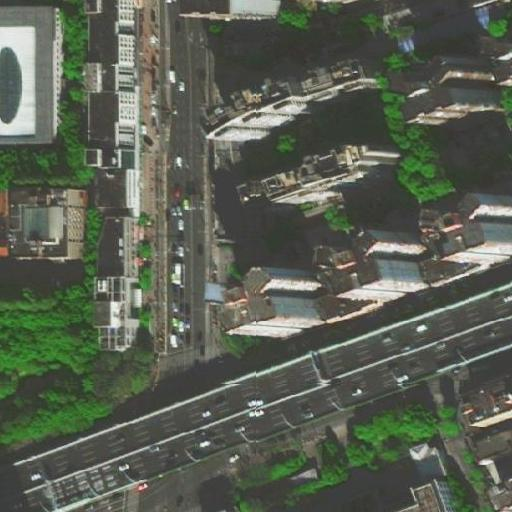building: (316, 228, 431, 305), (263, 141, 399, 204), (3, 9, 62, 145), (200, 75, 312, 142), (228, 266, 327, 340), (390, 61, 497, 127), (428, 194, 511, 267), (3, 191, 88, 259), (294, 56, 380, 106), (103, 215, 140, 290), (314, 292, 387, 325), (464, 382, 512, 431), (420, 256, 493, 288), (93, 169, 137, 216), (179, 0, 282, 20), (411, 438, 451, 482), (411, 477, 456, 511), (484, 473, 511, 511), (203, 281, 225, 304)
